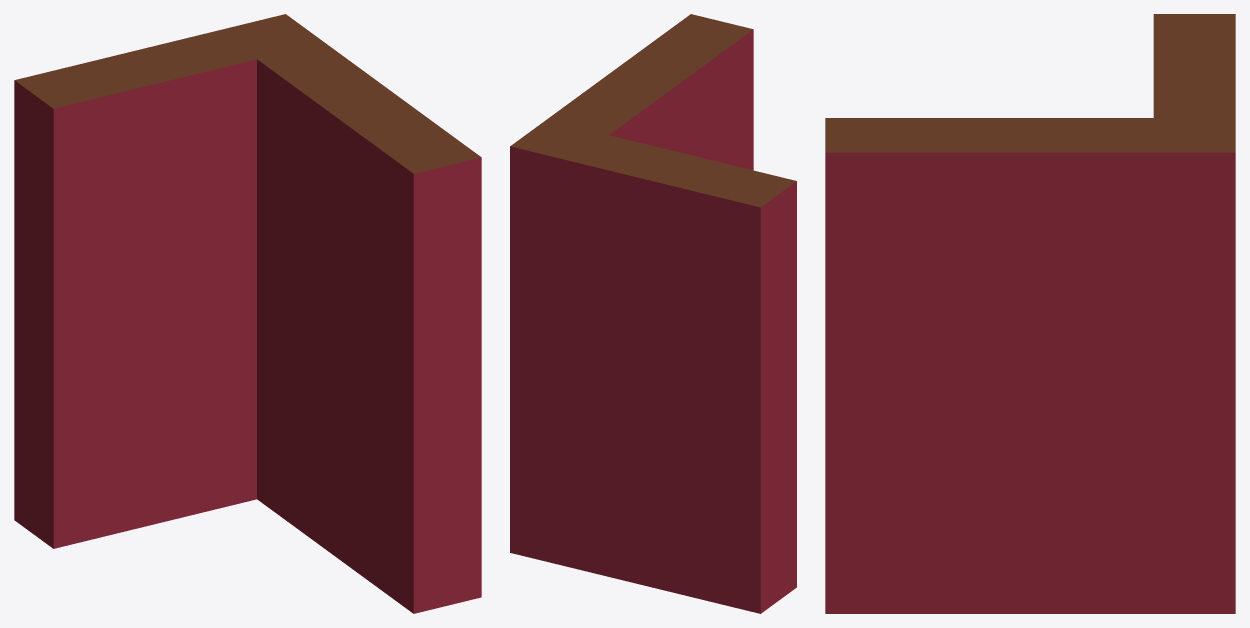
File: CornerWall_02.fbx
3 renders of one model, left to right at view 1: azimuth 30°, elevation 25°; view 2: azimuth 150°, elevation 25°; view 3: azimuth 270°, elevation 25°, orthographic. The views are drawn at different scales.
Visible parts, largest first — view 1: Corner_01; view 2: Corner_01; view 3: Corner_01.
Part boxes in pixels (box(x1,y1,x2,y2)): Corner_01: box(14, 14, 481, 613); Corner_01: box(510, 14, 796, 613); Corner_01: box(825, 14, 1235, 613).
Size of the model in its own units: 200 by 310 by 250.
